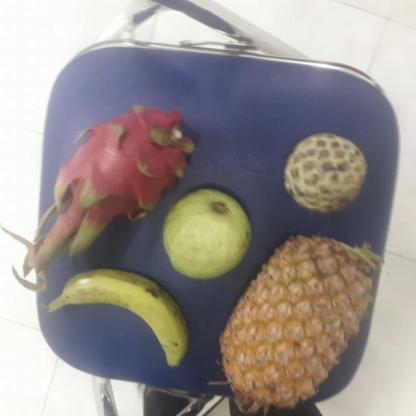annona: (279, 133, 368, 213)
guava: (158, 186, 252, 276)
pineapple: (216, 241, 376, 408)
pitaya: (52, 101, 192, 226)
